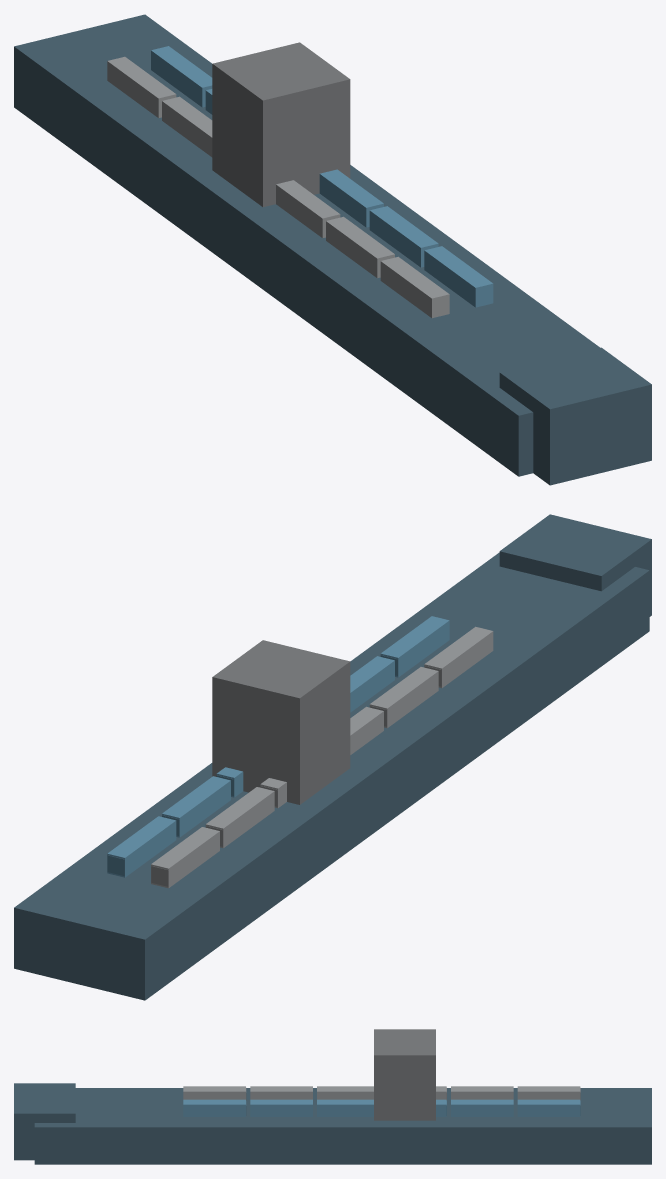
Rendered from hk-port-ship-hull.glb.
3 renders of one model, top to bottom at view 1: azimuth 30°, elevation 25°; view 2: azimuth 150°, elevation 25°; view 3: azimuth 270°, elevation 25°, orthographic. The views are drawn at different scales.
Parts seen in each view (by area): view 1: ship-hull; view 2: ship-hull; view 3: ship-hull.
Part boxes in pixels (x1=…): ship-hull: x1=14, y1=14, x2=651, y2=485; ship-hull: x1=14, y1=514, x2=651, y2=1000; ship-hull: x1=14, y1=1029, x2=651, y2=1164.
Bounding box in the file's own units: 18 × 22 × 124.
